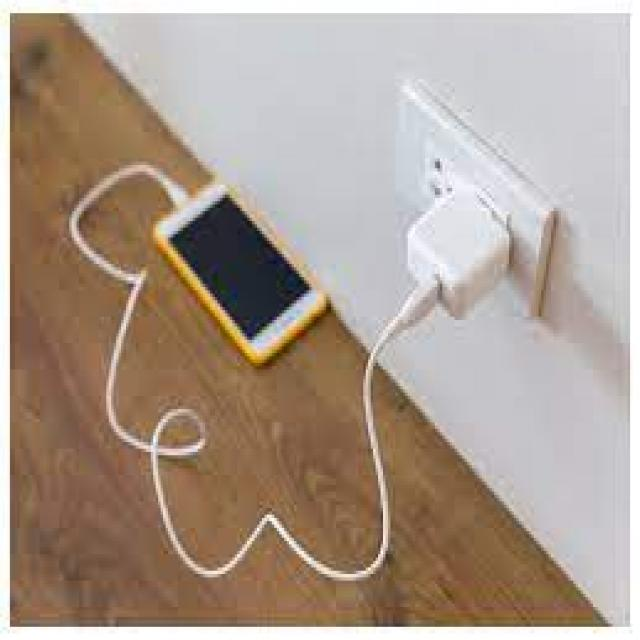battery charger: (340, 148, 524, 427)
phone: (170, 174, 329, 380)
